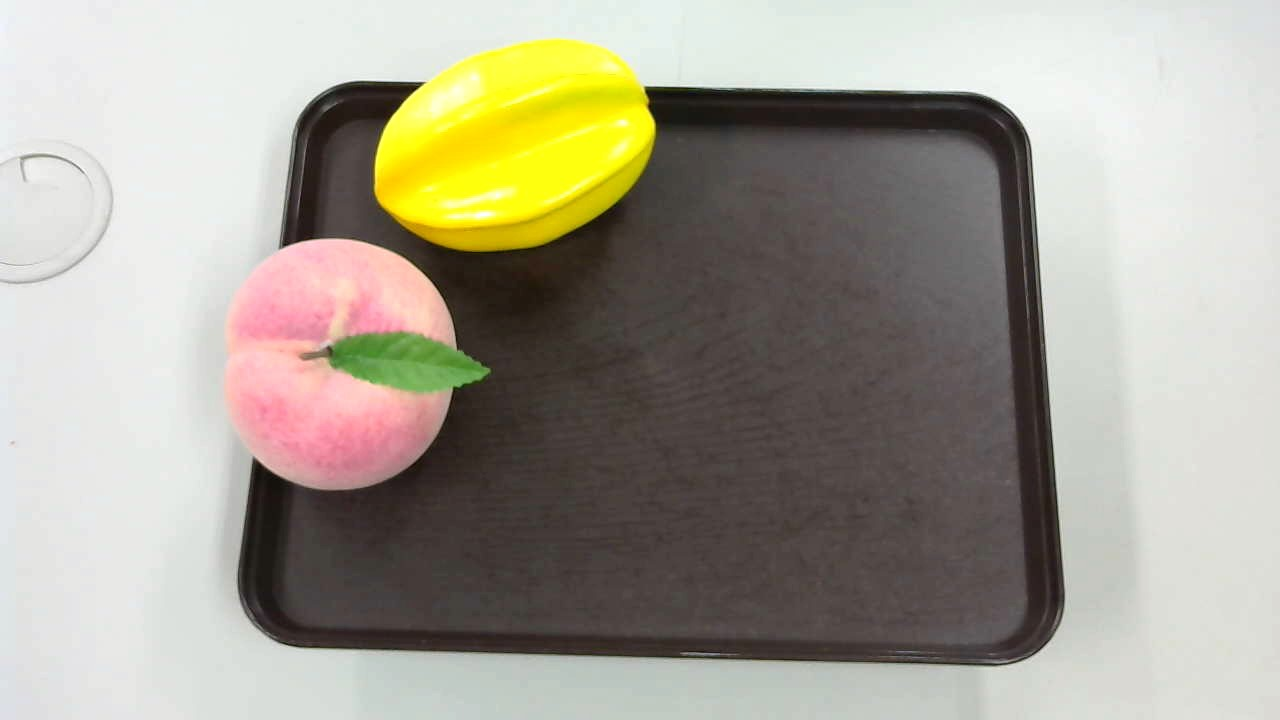peach: (223, 234, 491, 497)
star fruit: (372, 37, 654, 246)
